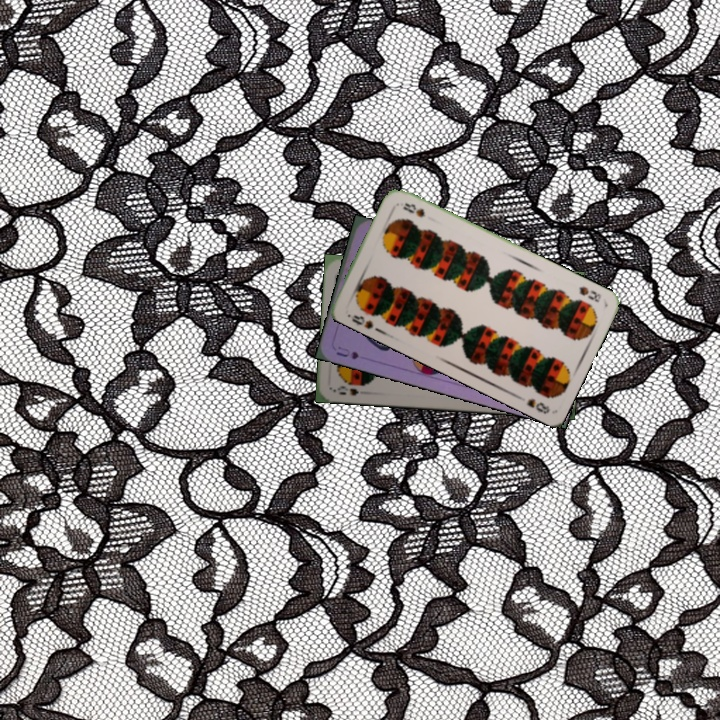S8: (575, 282, 604, 305), (347, 311, 376, 331)
SO: (330, 382, 361, 398)
SU: (332, 342, 362, 362)
